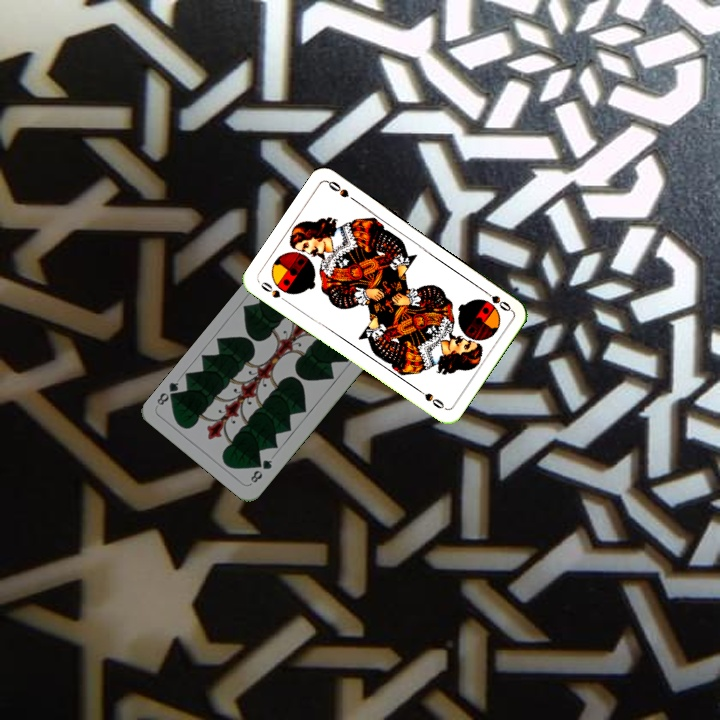G8: (246, 455, 275, 487)
SO: (478, 285, 514, 314), (255, 278, 291, 305)
